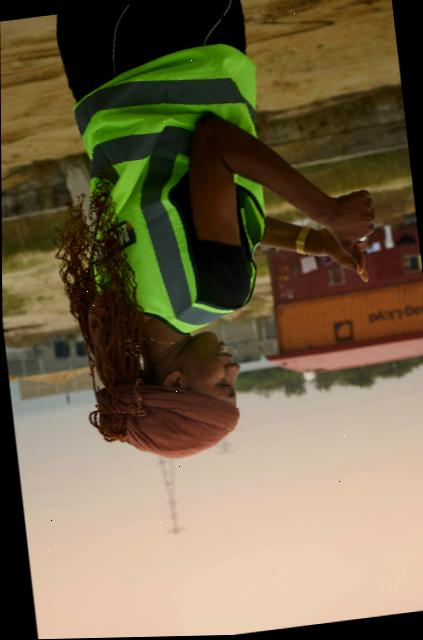vest: (47, 29, 302, 358)
